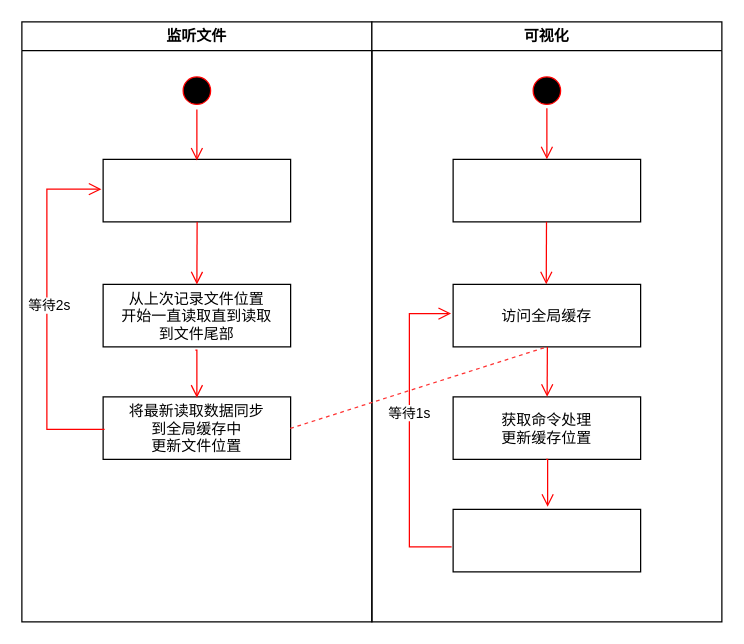
This 744x644 diagram has some shape labels left out. The shapes that lost their labels are listed below. From the top down, each one's centre as x and y in pixels, then its label:
At point 196,190: "初始化指向文件头".
At point 546,190: "初始化全局缓存位置".
At point 546,540: "可视化渲染".
